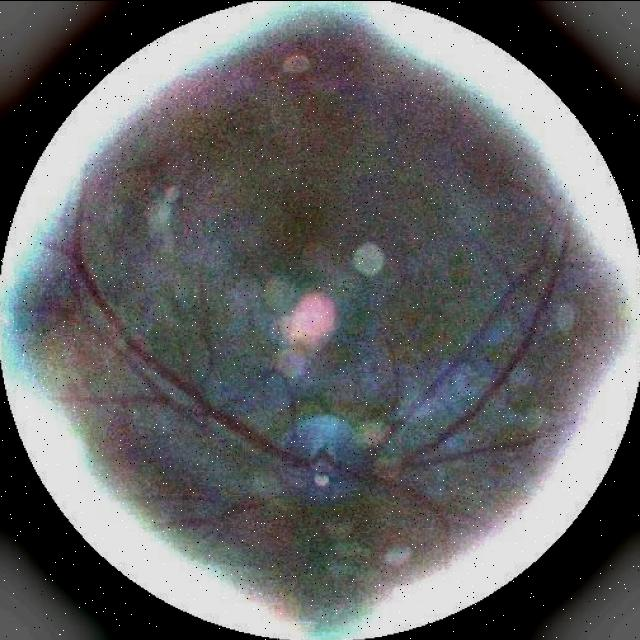Nerves: (343, 269, 559, 481), (126, 339, 315, 470), (65, 231, 121, 337), (154, 394, 180, 413)
Optic Disk: (274, 414, 367, 497), (290, 415, 350, 457), (314, 472, 329, 486)
